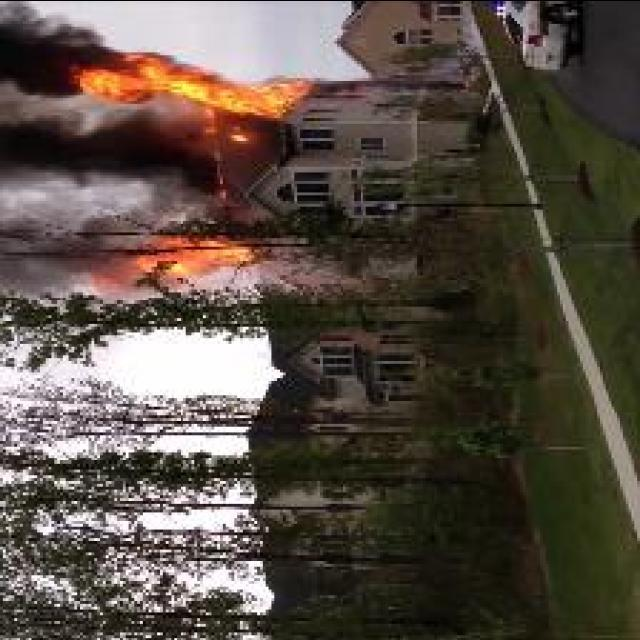Fire: (70, 50, 316, 116), (92, 237, 255, 289)
